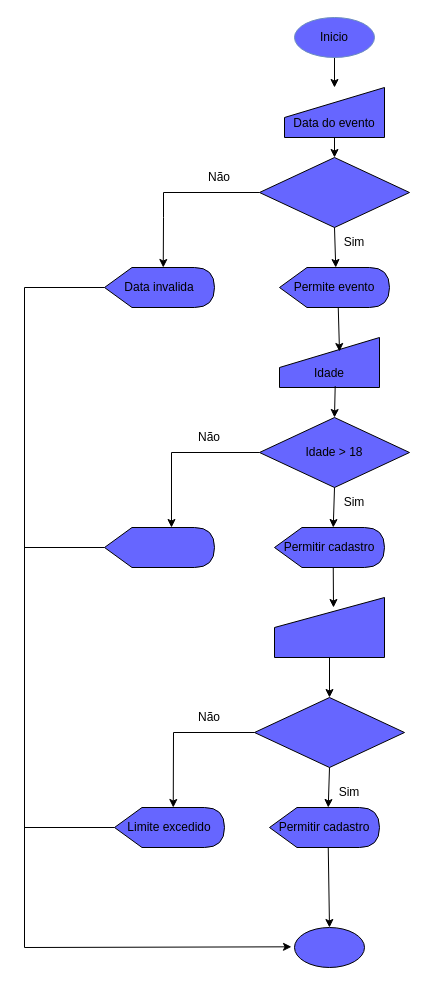
Image size: 427x985. Some labels were removed from this diagram. Here are the shapes that lost their labels. From the top down, the centre of each, then its label:
[334,192]: Data do evento > Data atua
[159,547]: Idade não permitida
[329,627]: Participantes e Palestrante
[329,732]: Lista <= 100 participantes
[329,947]: Fim
